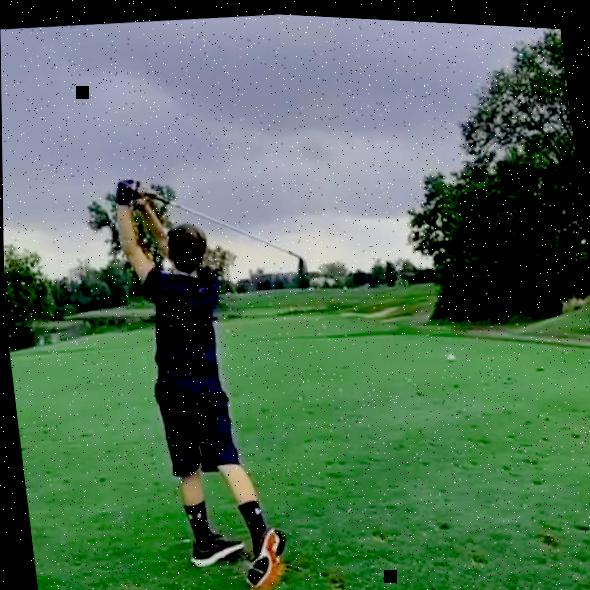ClubHead: (295, 254, 309, 275)
